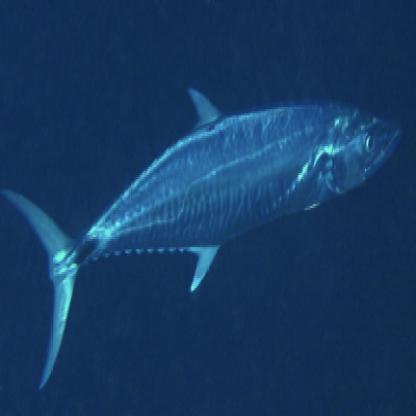Bio: (1, 76, 409, 396)
